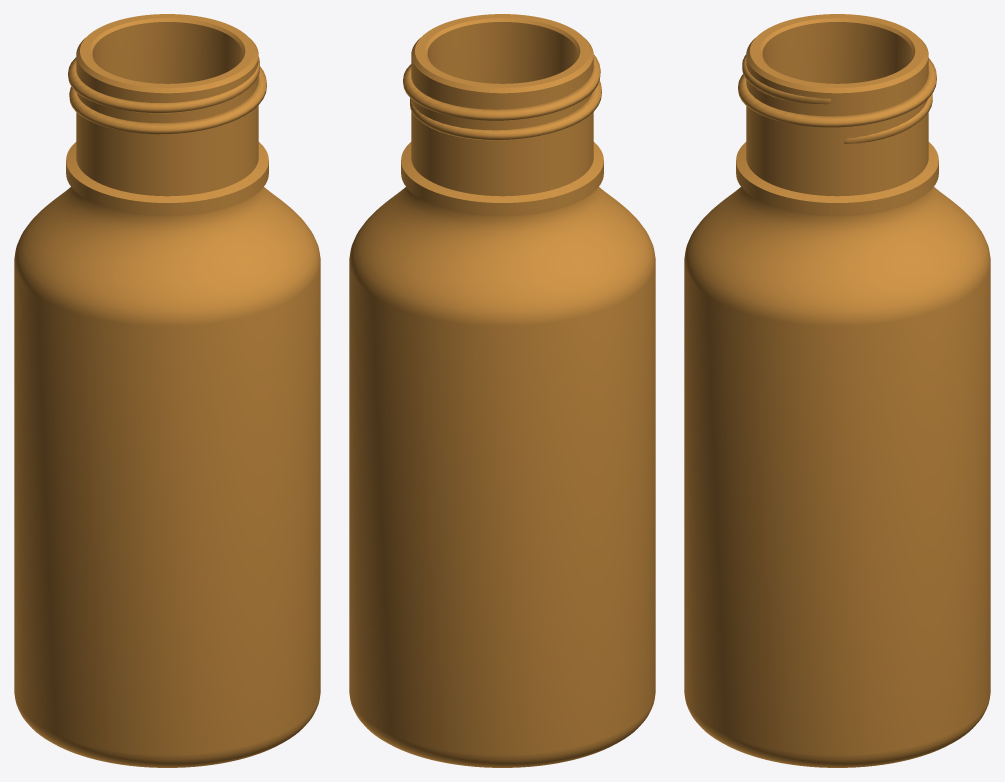
Rendered from neck_PP25.glb.
3 renders of one model, left to right at view 1: azimuth 30°, elevation 25°; view 2: azimuth 150°, elevation 25°; view 3: azimuth 270°, elevation 25°, orthographic.
Parts seen in each view (by area): view 1: Bottle_050ml; view 2: Bottle_050ml; view 3: Bottle_050ml.
Boxes of the visible parts, x1,y1,x2,y2 form: Bottle_050ml: (14, 14, 320, 767); Bottle_050ml: (349, 14, 655, 767); Bottle_050ml: (684, 14, 990, 767).
Bounding box in the file's own units: 0.0376 × 0.0894 × 0.0376.
